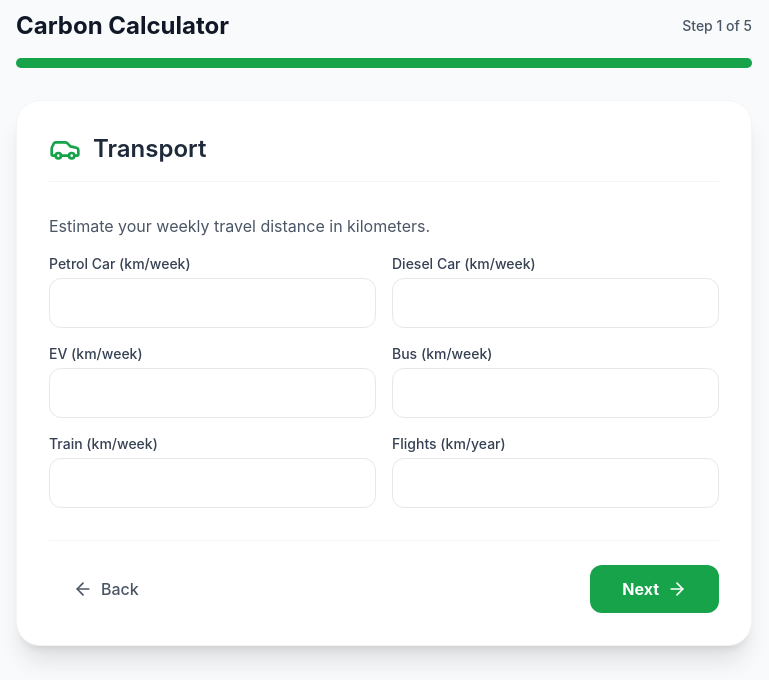
Test case: Calculator Page › should progress to step 2 after fun fact
The width and height of the screenshot is (769, 680).
Step 1. Click the button "Next" → [655, 589], box x1=590 y1=565 x2=719 y2=613
Wait 3000 ms
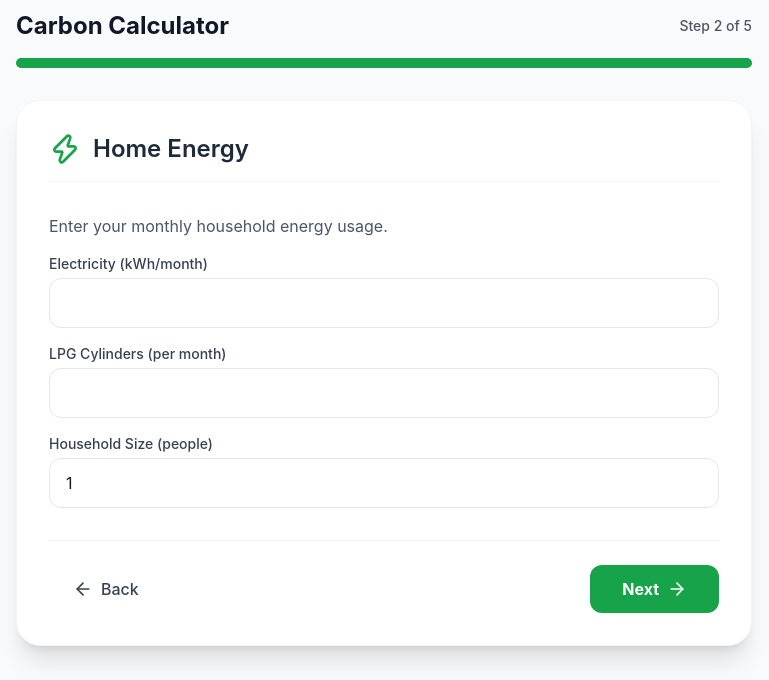
Check: the text "Step 2 of 5" is shown, box x1=679 y1=16 x2=752 y2=36
